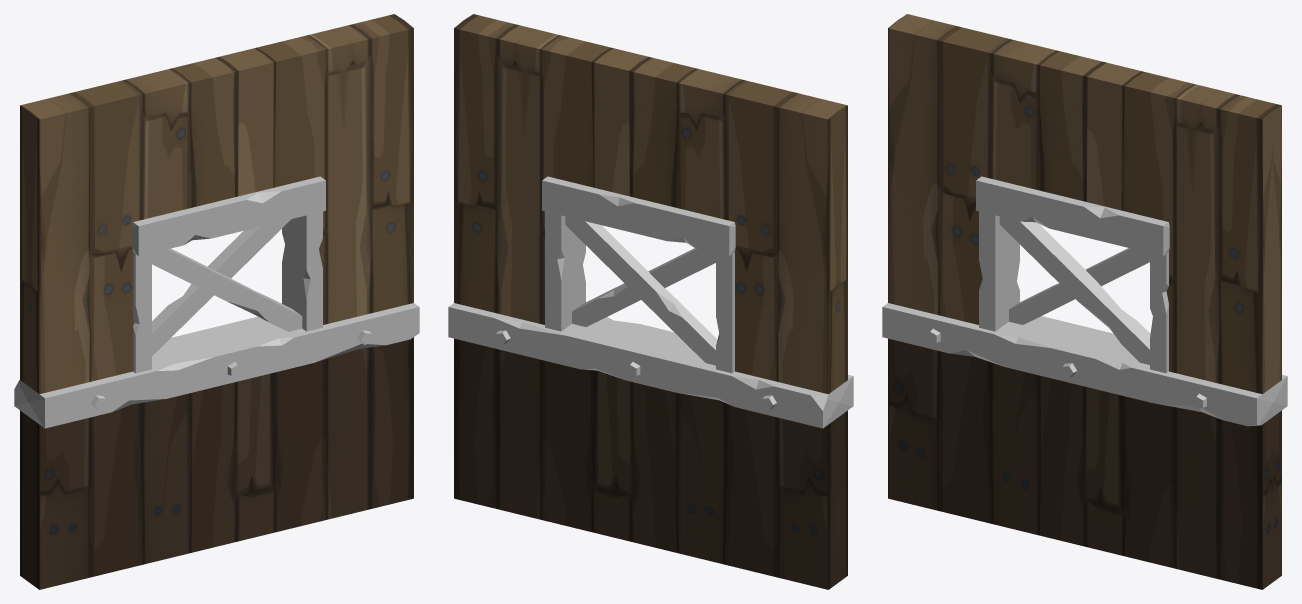
File: SM_Bld_Wall_Window_01.fbx
3 views of the same model, side by side, from view 1: azimuth 30°, elevation 25°; view 2: azimuth 150°, elevation 25°; view 3: azimuth 330°, elevation 25° (orthographic).
Parts seen in each view (by area): view 1: SM_Bld_Wall_Window_01; view 2: SM_Bld_Wall_Window_01; view 3: SM_Bld_Wall_Window_01.
Part boxes in pixels (left/top/right/bottom): SM_Bld_Wall_Window_01: left=14, top=14, right=419, bottom=589; SM_Bld_Wall_Window_01: left=448, top=14, right=853, bottom=589; SM_Bld_Wall_Window_01: left=882, top=14, right=1287, bottom=589.
Size of the model in its own units: 252 by 301 by 42.5.
